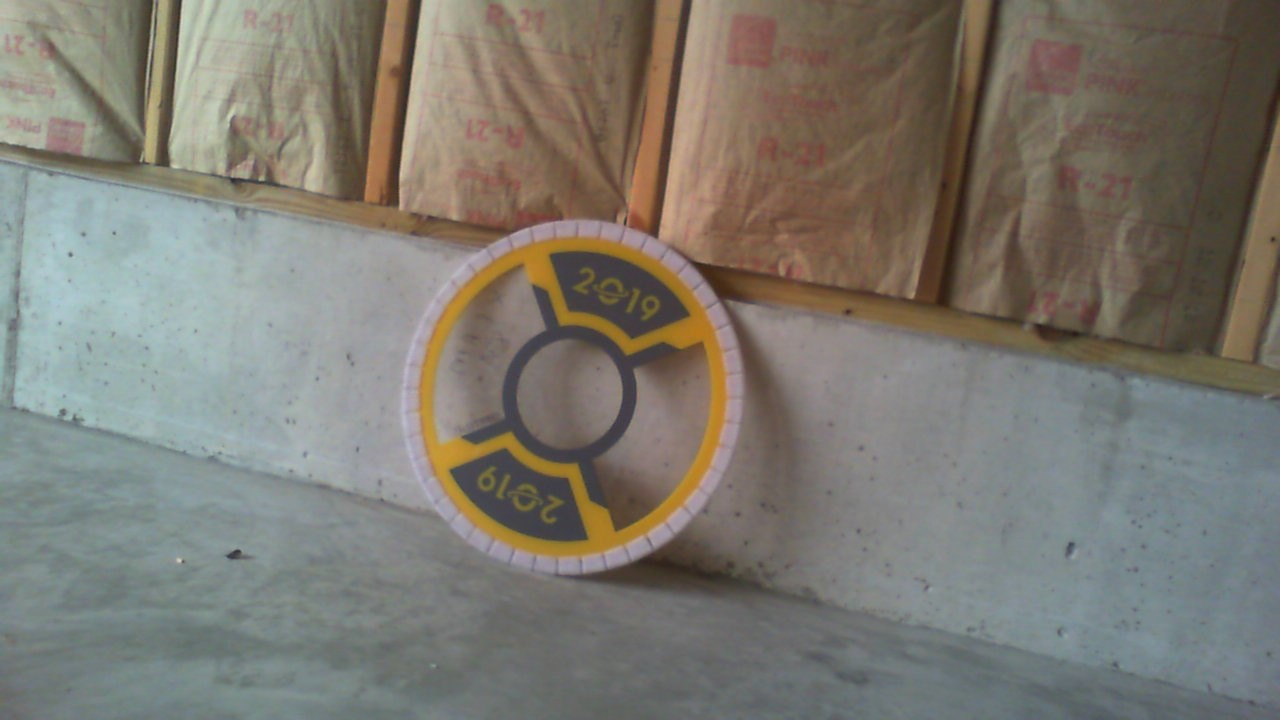Hatch: (400, 218, 746, 573)
